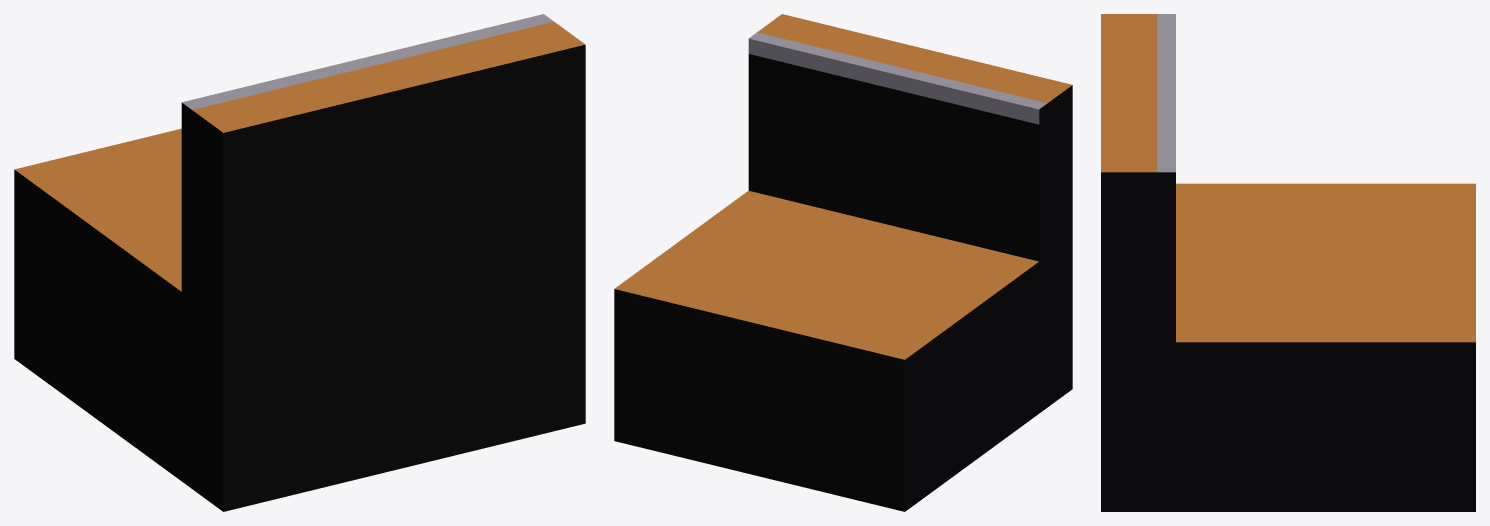
Rendered from Ledge_Block_LRG_NG.obj.
3 renders of one model, left to right at view 1: azimuth 30°, elevation 25°; view 2: azimuth 150°, elevation 25°; view 3: azimuth 270°, elevation 25°, orthographic. The views are drawn at different scales.
Visible parts, largest first — view 1: Ledge_Block_LRG_NG; view 2: Ledge_Block_LRG_NG; view 3: Ledge_Block_LRG_NG.
Boxes of the visible parts, x1=… form: Ledge_Block_LRG_NG: x1=14, y1=14, x2=585, y2=511; Ledge_Block_LRG_NG: x1=614, y1=14, x2=1072, y2=511; Ledge_Block_LRG_NG: x1=1101, y1=14, x2=1475, y2=511.
Bounding box in the file's own units: 10 × 10 × 10.
